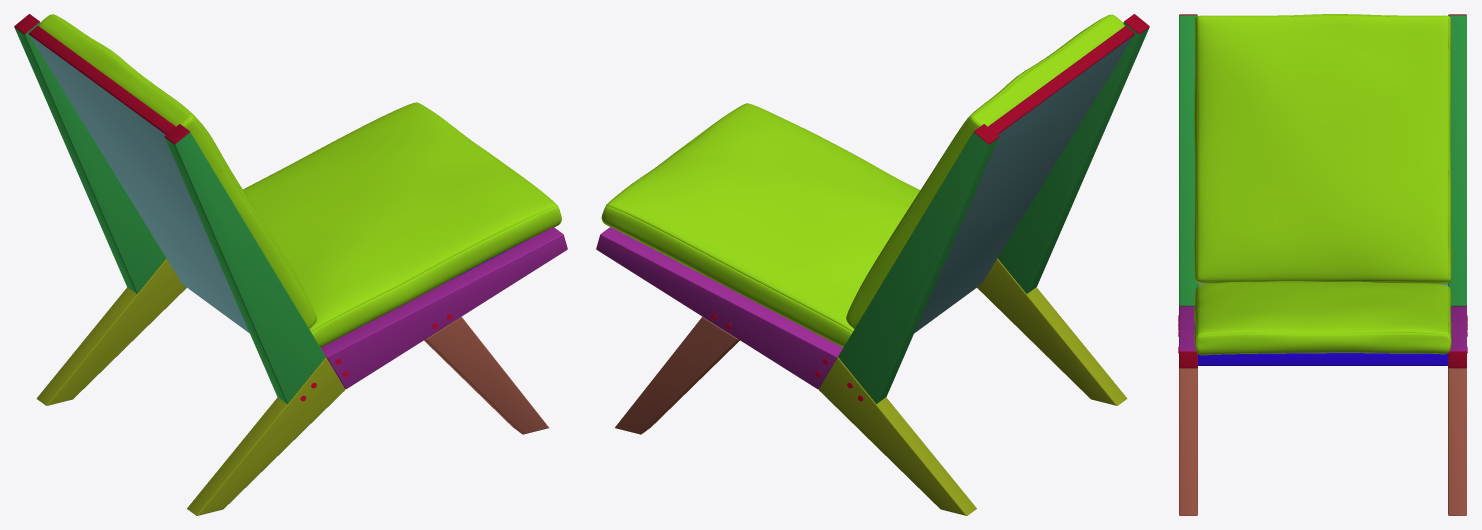
File: KEPNER_LOUNGE_CHAIR.glb
3 renders of one model, left to right at view 1: azimuth 30°, elevation 25°; view 2: azimuth 150°, elevation 25°; view 3: azimuth 270°, elevation 25°, orthographic. The views are drawn at different scales.
Parts seen in each view (by area): view 1: Cube.001, Plane.005, Plane.008, Plane.007, Plane.003, Cube.002, Plane.006; view 2: Cube.001, Plane.005, Plane.008, Plane.007, Plane.003, Cube.002, Plane.006; view 3: Cube.002, Cube.001, Plane.005, Plane.006, Plane.009, Plane.003.
Boxes of the visible parts, left/top/right/bottom form: Cube.001: left=243, top=102, right=561, bottom=347; Plane.005: left=14, top=14, right=325, bottom=403; Plane.008: left=29, top=26, right=249, bottom=333; Plane.007: left=36, top=258, right=345, bottom=515; Plane.003: left=321, top=227, right=567, bottom=389; Cube.002: left=39, top=14, right=316, bottom=328; Plane.006: left=424, top=317, right=548, bottom=434; Cube.001: left=601, top=103, right=920, bottom=347; Plane.005: left=838, top=14, right=1149, bottom=403; Plane.008: left=914, top=26, right=1134, bottom=333; Plane.007: left=818, top=258, right=1127, bottom=515; Plane.003: left=596, top=227, right=842, bottom=389; Cube.002: left=846, top=14, right=1124, bottom=328; Plane.006: left=615, top=317, right=739, bottom=434; Cube.002: left=1194, top=14, right=1451, bottom=284; Cube.001: left=1194, top=281, right=1451, bottom=355; Plane.005: left=1179, top=14, right=1466, bottom=306; Plane.006: left=1179, top=367, right=1466, bottom=515; Plane.009: left=1198, top=353, right=1447, bottom=365; Plane.003: left=1179, top=306, right=1466, bottom=368.
Bounding box in the file's own units: 3.03 × 2.86 × 2.13.
